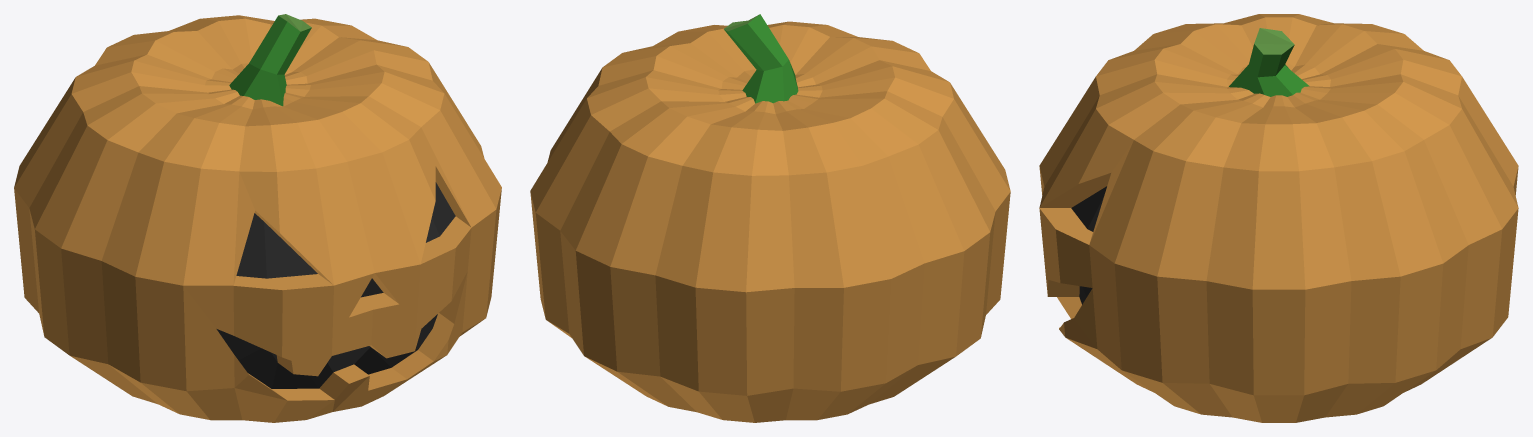
File: pumpkin_1_black_mat.fbx
3 views of the same model, side by side, from view 1: azimuth 30°, elevation 25°; view 2: azimuth 150°, elevation 25°; view 3: azimuth 270°, elevation 25° (orthographic).
Visible parts, largest first — view 1: pumpkin_1_black_mat; view 2: pumpkin_1_black_mat; view 3: pumpkin_1_black_mat.
Part boxes in pixels (x1,y1,x2,y2): pumpkin_1_black_mat: (14, 14, 501, 422); pumpkin_1_black_mat: (530, 14, 1010, 422); pumpkin_1_black_mat: (1039, 14, 1518, 422).
Bounding box in the file's own units: 235 × 181 × 232.
